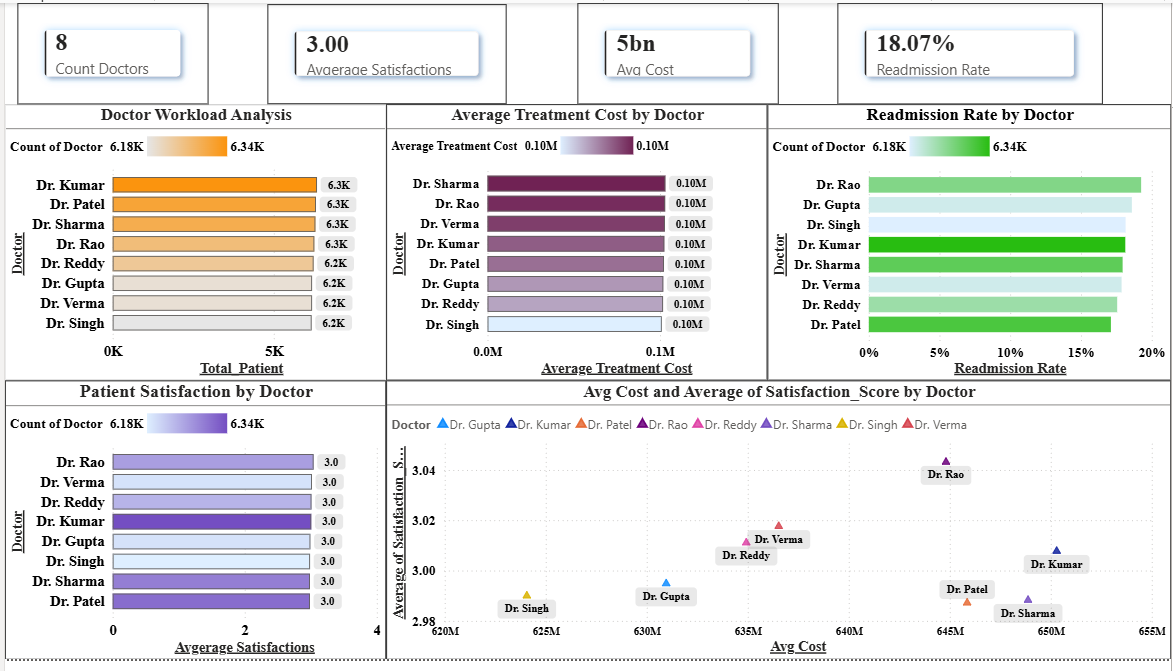

This screenshot's page, from the dashboard's own definition file:
{"tool":"powerbi","page":{"name":"Doctor Performance Dashboard","canvas":[1280,720],"ordinal":3},"visuals":[{"type":"barChart","title":"Doctor Workload Analysis","fields":{"Category":["Hospital_Patient_Dataset_50000.Doctor"],"Y":["Hospital_Patient_Dataset_50000.Total_Patient"]},"box":[0,111.1,418.5,303.3],"z":0},{"type":"barChart","title":"Patient Satisfaction by Doctor","fields":{"Category":["Hospital_Patient_Dataset_50000.Doctor"],"Y":["Hospital_Patient_Dataset_50000.Avgerage Satisfactions"]},"box":[0,414.4,418.5,306],"z":1000},{"type":"barChart","title":"Average Treatment Cost by Doctor","fields":{"Y":["Hospital_Patient_Dataset_50000.Average Treatment Cost"],"Category":["Hospital_Patient_Dataset_50000.Doctor"]},"box":[418.5,111.1,418.5,303.3],"z":2000},{"type":"barChart","title":"Readmission Rate by Doctor","fields":{"Category":["Hospital_Patient_Dataset_50000.Doctor"],"Y":["Hospital_Patient_Dataset_50000.Readmission Rate"]},"box":[837.1,111.1,443.2,303.3],"z":3000},{"type":"scatterChart","fields":{"X":["Hospital_Patient_Dataset_50000.Avg Cost"],"Y":["Avg(Hospital_Patient_Dataset_50000.Satisfaction_Score)"],"Series":["Hospital_Patient_Dataset_50000.Doctor"]},"box":[418.5,414.4,861.8,306],"z":4000},{"type":"cardVisual","fields":{"Data":["Hospital_Patient_Dataset_50000.Count Doctors"]},"box":[13.7,0,209.9,111.1],"z":5000},{"type":"cardVisual","fields":{"Data":["Hospital_Patient_Dataset_50000.Avgerage Satisfactions"]},"box":[288.2,1.4,262.1,109.8],"z":6000},{"type":"cardVisual","fields":{"Data":["Hospital_Patient_Dataset_50000.Avg Cost"]},"box":[628.5,0,220.9,111.1],"z":7000},{"type":"cardVisual","fields":{"Data":["Hospital_Patient_Dataset_50000.Readmission Rate"]},"box":[913.9,0,290.9,111.1],"z":8000}]}

Visuals, with their boxes in screenshot pixels (x1, y1, x2, y2), scaled from the page's 1280x720 canvas onto the 1173x671 screenshot:
"Doctor Workload Analysis" barChart: {"left": 0, "top": 104, "right": 384, "bottom": 386}
"Patient Satisfaction by Doctor" barChart: {"left": 0, "top": 386, "right": 384, "bottom": 670}
"Average Treatment Cost by Doctor" barChart: {"left": 384, "top": 104, "right": 767, "bottom": 386}
"Readmission Rate by Doctor" barChart: {"left": 767, "top": 104, "right": 1172, "bottom": 386}
scatterChart - Hospital_Patient_Dataset_50000.Avg Cost x Avg(Hospital_Patient_Dataset_50000.Satisfaction_Score): {"left": 384, "top": 386, "right": 1172, "bottom": 670}
cardVisual - Hospital_Patient_Dataset_50000.Count Doctors: {"left": 13, "top": 0, "right": 205, "bottom": 104}
cardVisual - Hospital_Patient_Dataset_50000.Avgerage Satisfactions: {"left": 264, "top": 1, "right": 504, "bottom": 104}
cardVisual - Hospital_Patient_Dataset_50000.Avg Cost: {"left": 576, "top": 0, "right": 778, "bottom": 104}
cardVisual - Hospital_Patient_Dataset_50000.Readmission Rate: {"left": 838, "top": 0, "right": 1104, "bottom": 104}
